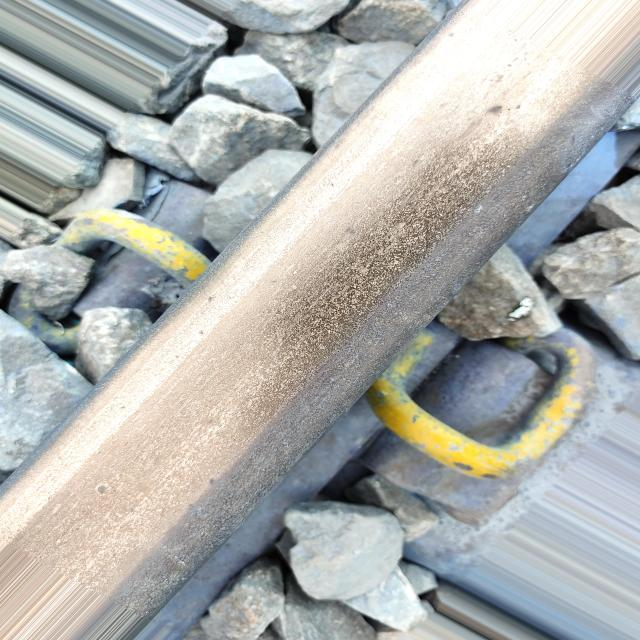Good Fasteners: (364, 322, 627, 527), (7, 180, 218, 356)
